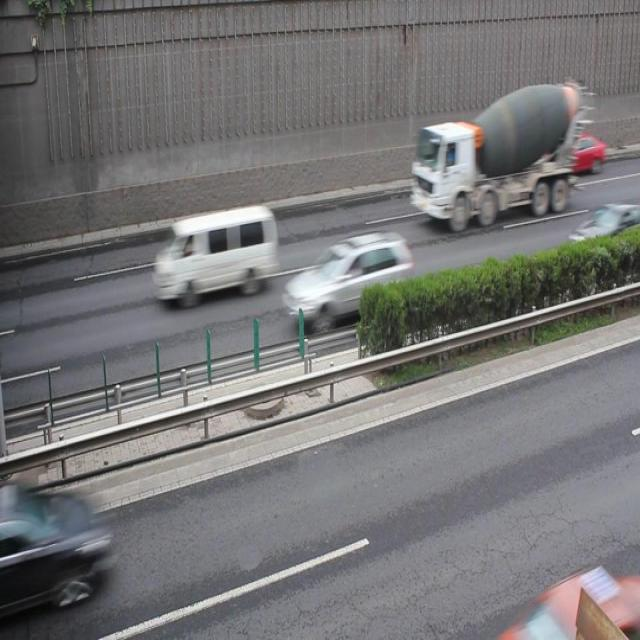bus: (410, 79, 580, 228)
car: (9, 484, 109, 613), (284, 233, 413, 330), (512, 570, 640, 640), (567, 200, 640, 269), (558, 132, 604, 175)
truck: (154, 206, 276, 299)
